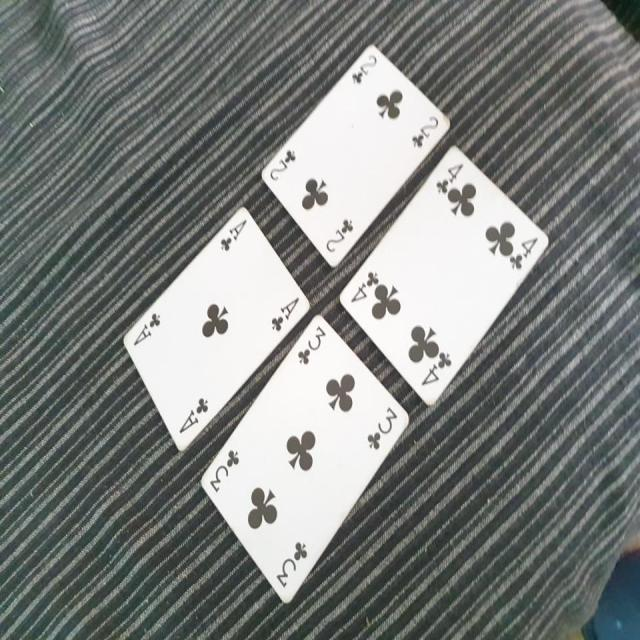2 Trefoils: (260, 42, 452, 268)
3 Trefoils: (198, 312, 410, 605)
4 Trefoils: (337, 142, 552, 406)
A Trefoils: (122, 204, 310, 452)
